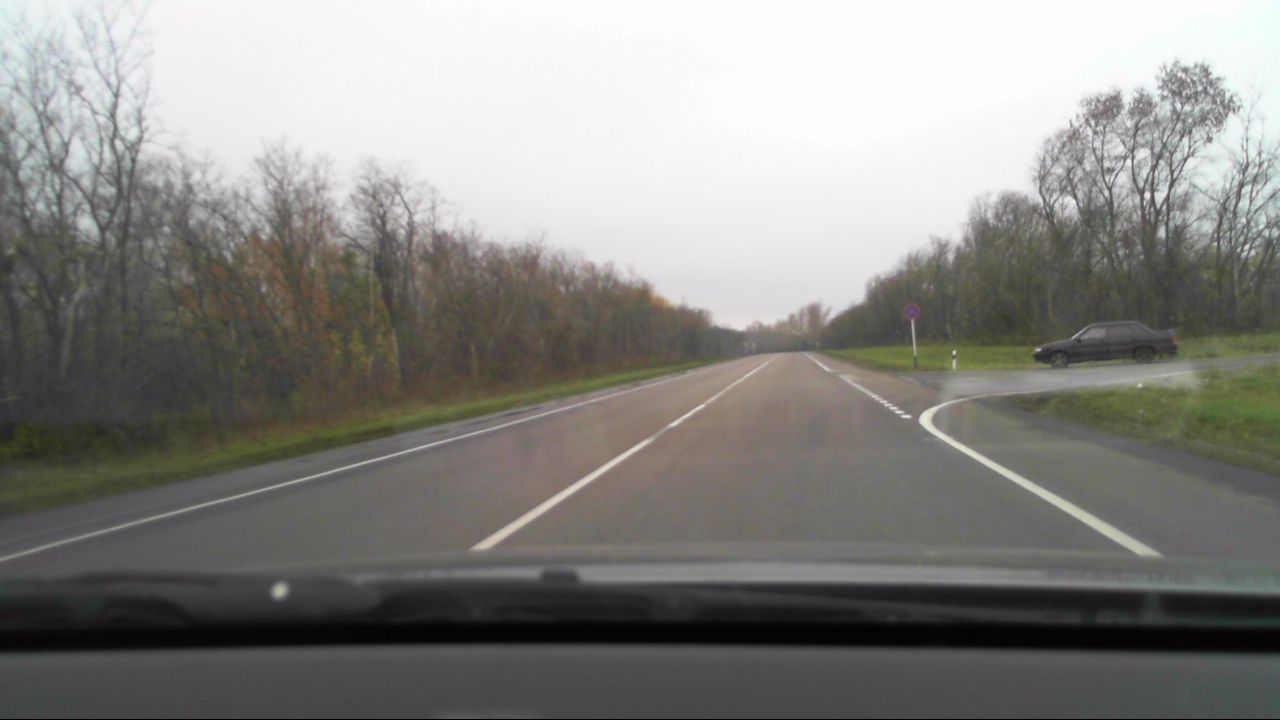No Parking: (901, 301, 924, 320)
